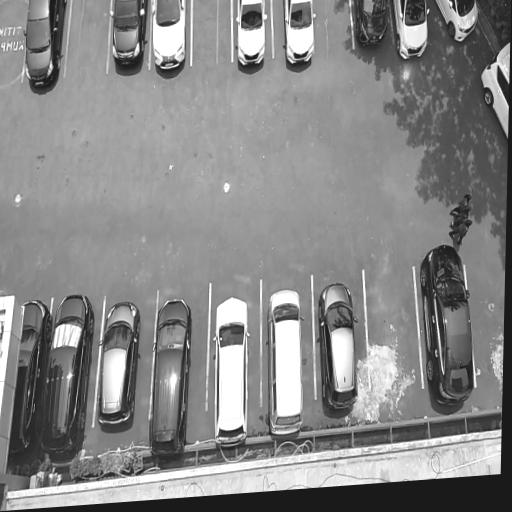Car: (412, 234, 479, 414), (143, 290, 196, 469), (40, 289, 94, 464), (5, 290, 48, 477), (208, 286, 255, 457), (91, 295, 142, 435), (314, 274, 362, 422), (265, 277, 306, 439), (19, 0, 67, 96), (477, 23, 511, 145), (149, 0, 192, 83), (107, 0, 148, 77), (232, 0, 269, 79), (388, 0, 430, 68), (283, 0, 319, 74), (428, 0, 481, 49), (352, 0, 390, 48)
Space Available: (370, 256, 413, 409), (68, 0, 109, 83), (194, 0, 230, 70), (0, 0, 23, 94), (316, 0, 350, 60)
